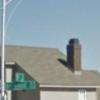chimneys: (66, 38, 82, 74)
